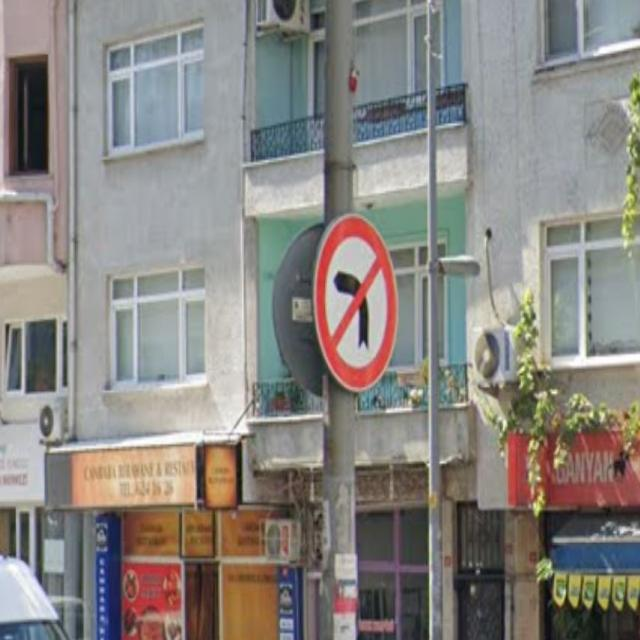soladonulmez: (314, 213, 398, 389)
